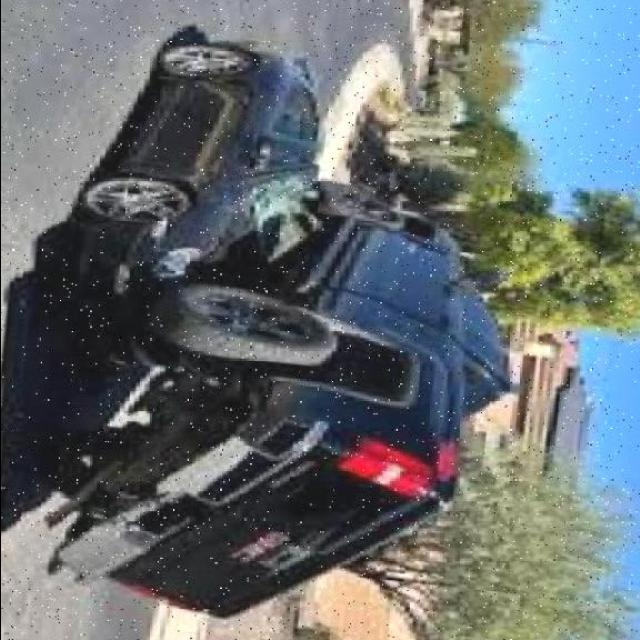accident: (61, 62, 447, 572)
